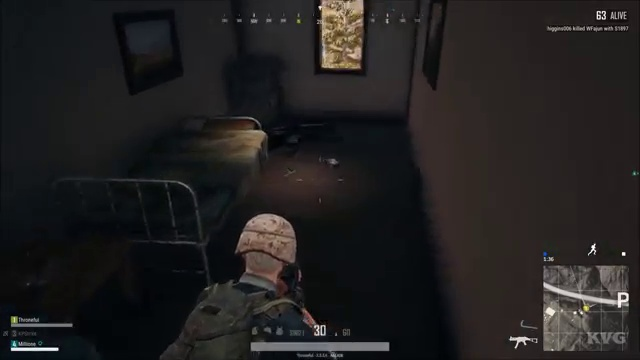Player: (169, 205, 364, 320)
